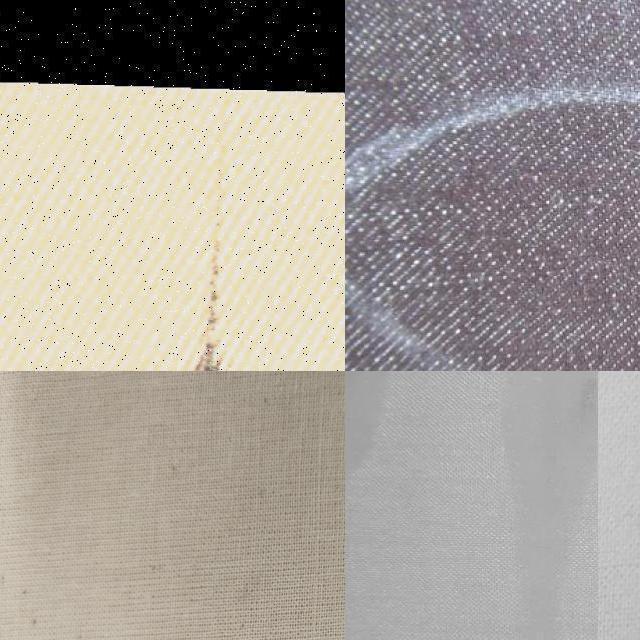stains: (124, 160, 294, 371), (284, 371, 345, 640)
